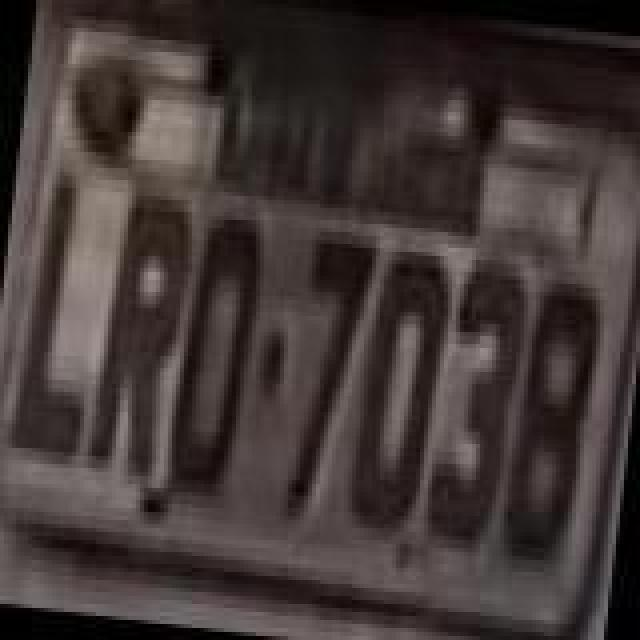3: (420, 252, 532, 548)
7: (276, 228, 380, 532)
8: (496, 272, 608, 568)
L: (2, 164, 110, 468)
O: (340, 244, 452, 540), (164, 206, 268, 498)
R: (82, 186, 198, 486)
